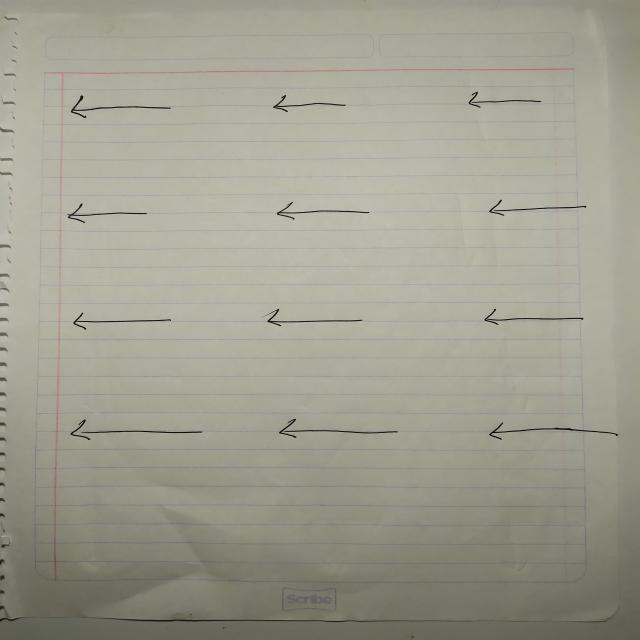arrow_line_left: (478, 418, 623, 452), (55, 413, 209, 445), (264, 415, 408, 449), (53, 89, 184, 126), (260, 301, 386, 339), (455, 88, 565, 123), (264, 197, 382, 228), (473, 194, 600, 222), (474, 305, 599, 333), (56, 309, 188, 335), (55, 197, 163, 227), (257, 89, 358, 119)
